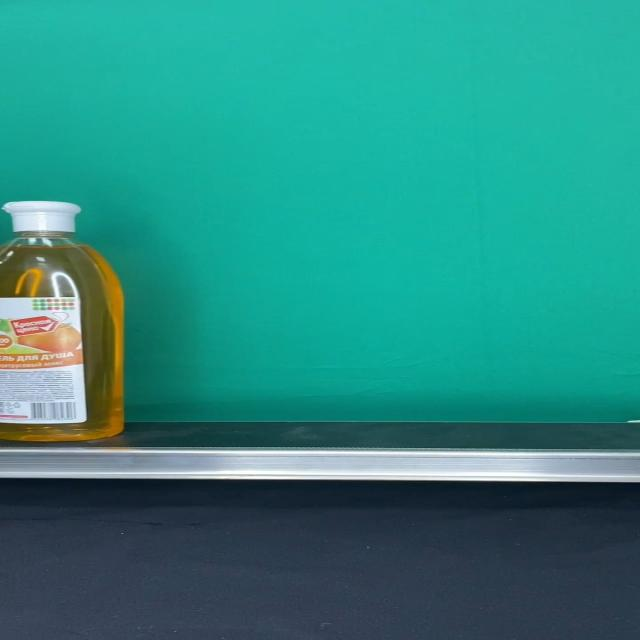Bottle: (0, 201, 124, 442)
Cap: (1, 201, 80, 232)
